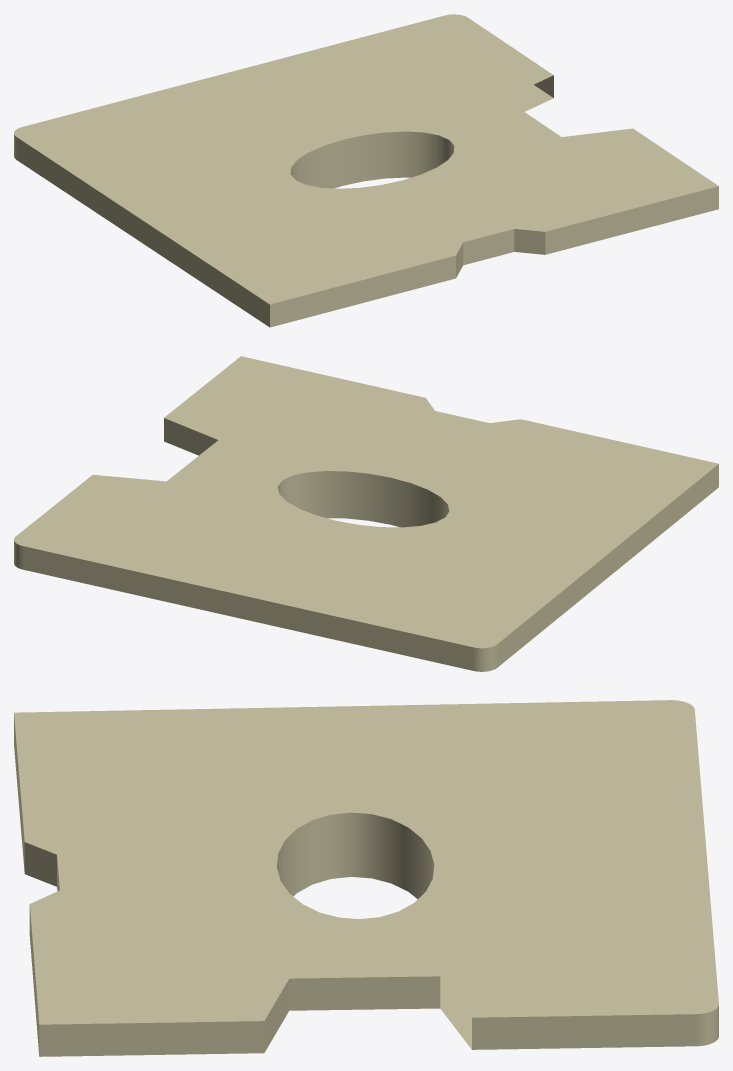
File: SM_WhiteModel_16.FBX
3 views of the same model, one above another, from view 1: azimuth 30°, elevation 25°; view 2: azimuth 150°, elevation 25°; view 3: azimuth 270°, elevation 25° (orthographic). The views are drawn at different scales.
Parts seen in each view (by area): view 1: SM_WhiteModel_16; view 2: SM_WhiteModel_16; view 3: SM_WhiteModel_16.
Boxes of the visible parts, x1,y1,x2,y2 form: SM_WhiteModel_16: (14, 14, 718, 327); SM_WhiteModel_16: (14, 356, 718, 671); SM_WhiteModel_16: (14, 700, 718, 1056).
Size of the model in its own units: 9738 by 8940 by 900.
